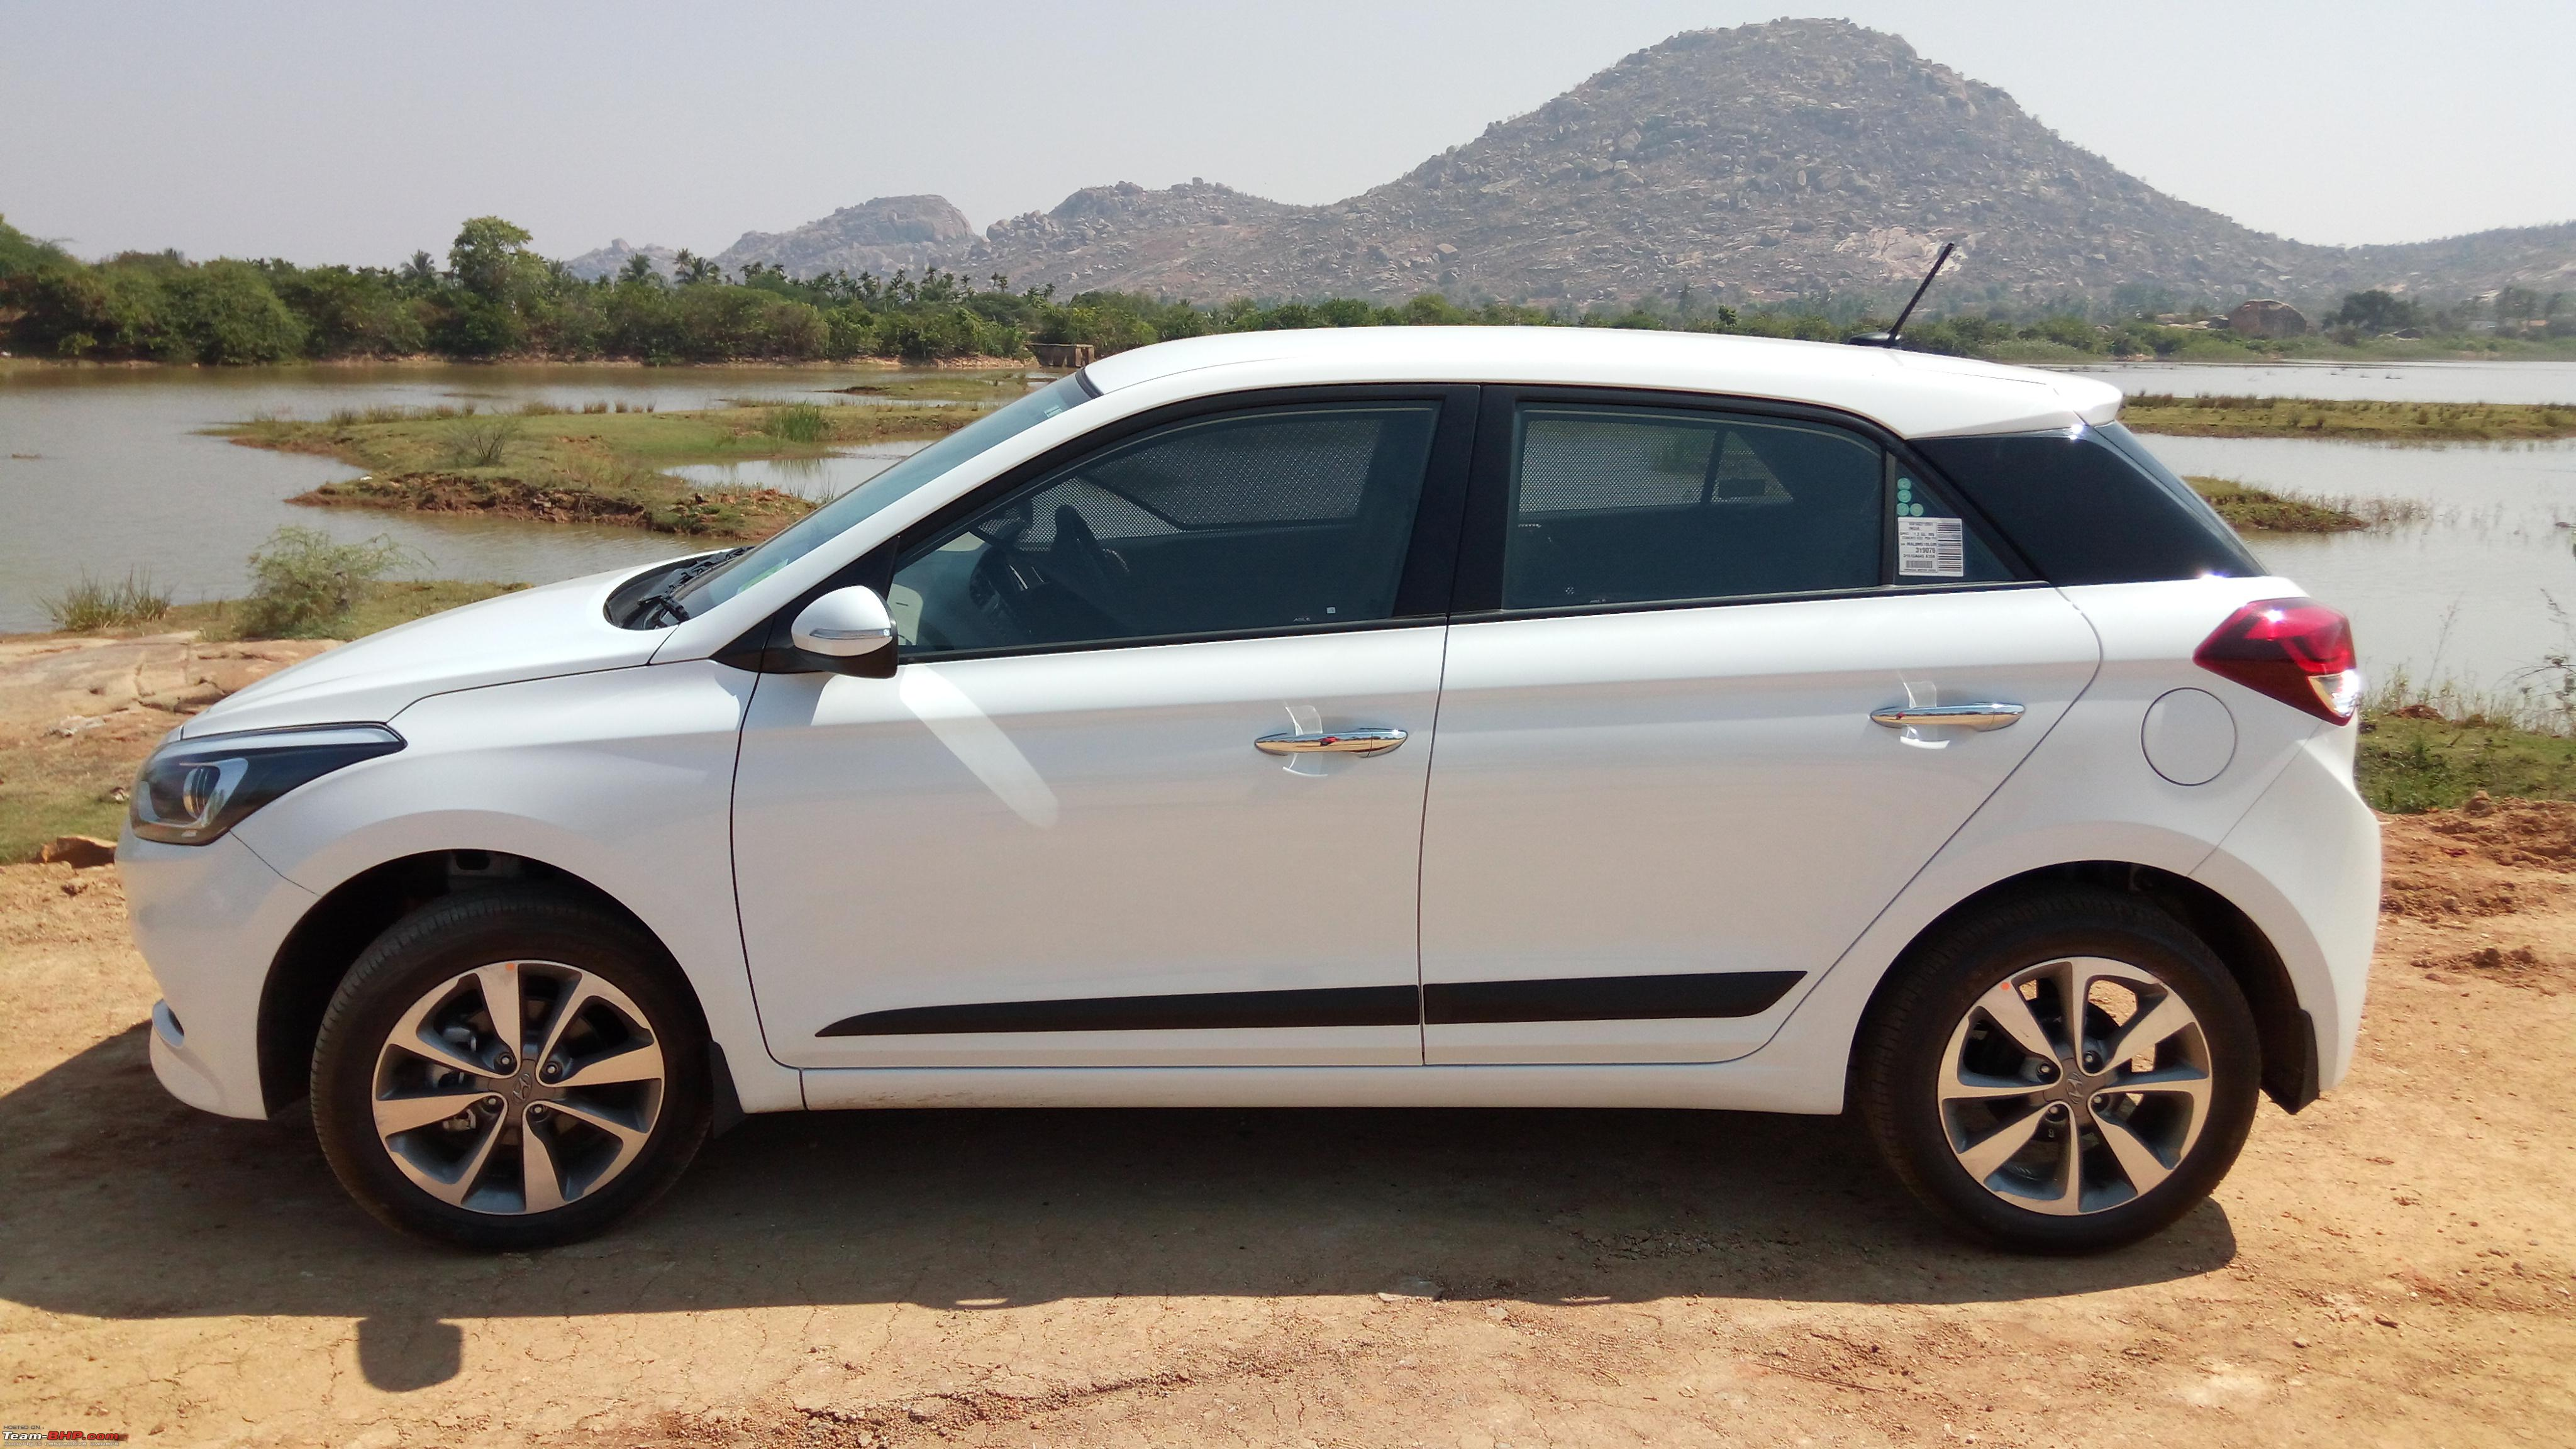i20: (27, 221, 2449, 1293)
